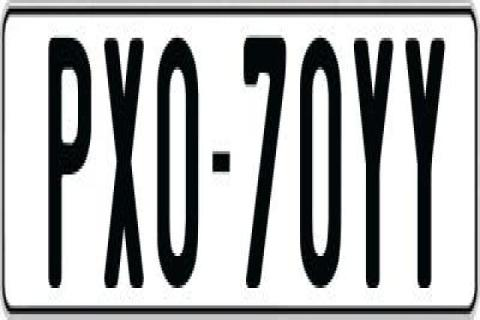0: (154, 38, 202, 297), (240, 32, 288, 291), (300, 35, 346, 303)
P: (46, 35, 96, 297)
X: (104, 32, 150, 300)
Y: (404, 32, 450, 285), (352, 29, 392, 285)
